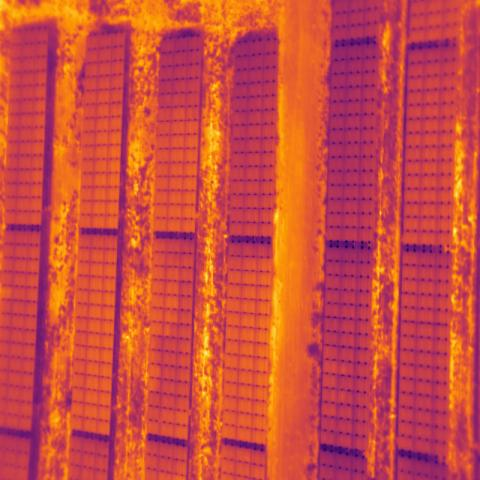fault: (0, 284, 12, 301)
